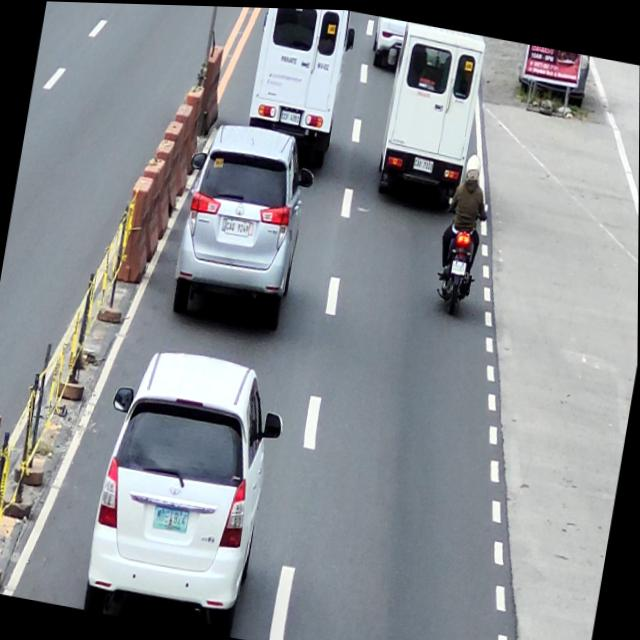Car: (78, 338, 293, 640), (167, 114, 321, 335), (372, 17, 488, 213), (240, 6, 358, 173)
License-Plate: (153, 505, 191, 533), (224, 217, 252, 236), (413, 154, 435, 172), (279, 109, 301, 125), (451, 256, 467, 273)
Motorcycle: (430, 191, 490, 319)
